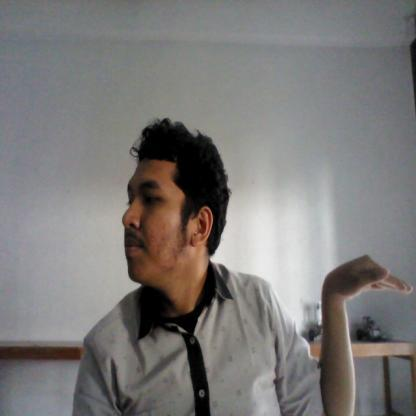Z: (320, 253, 414, 416)
